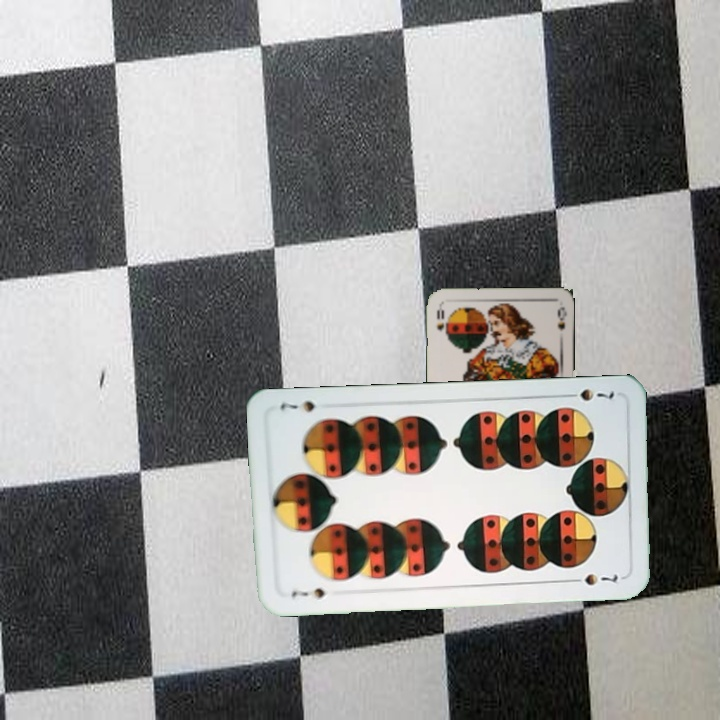S7: (561, 385, 617, 403), (287, 584, 330, 601)
SO: (433, 303, 449, 338)
